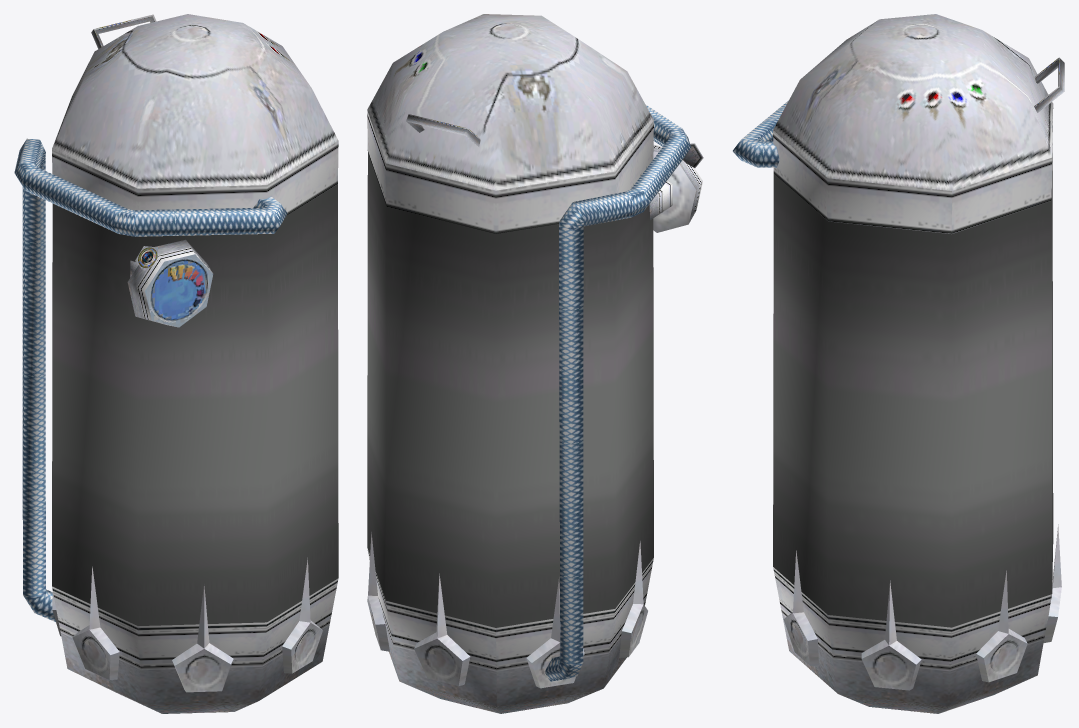
File: eqp_medic_bacta_tank_l0.fbx
The picture shows the model from 3 angles, left to right: view 1: azimuth 30°, elevation 25°; view 2: azimuth 150°, elevation 25°; view 3: azimuth 270°, elevation 25°; orthographic projection.
Visible parts, largest first — view 1: mesh_node; view 2: mesh_node; view 3: mesh_node.
Boxes of the visible parts, x1,y1,x2,y2 form: mesh_node: [14, 14, 338, 713]; mesh_node: [367, 14, 703, 713]; mesh_node: [733, 14, 1064, 713].
Size of the model in its own units: 0.6355 by 1.41 by 0.6494.
